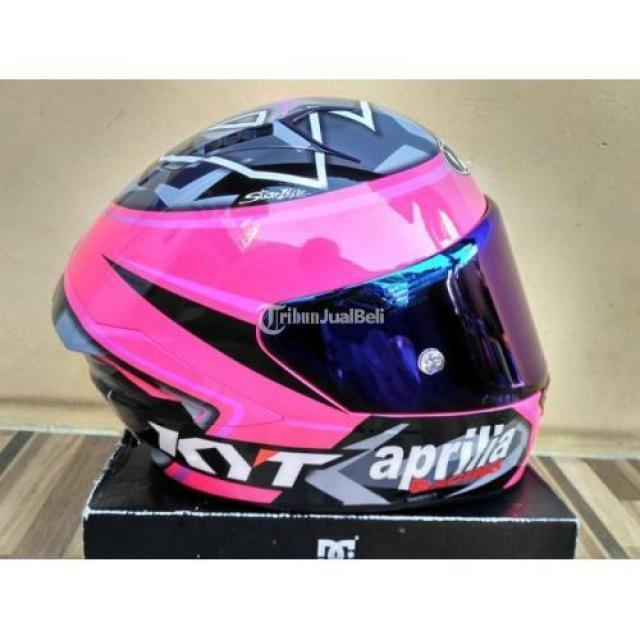helmet on: (48, 95, 572, 516)
